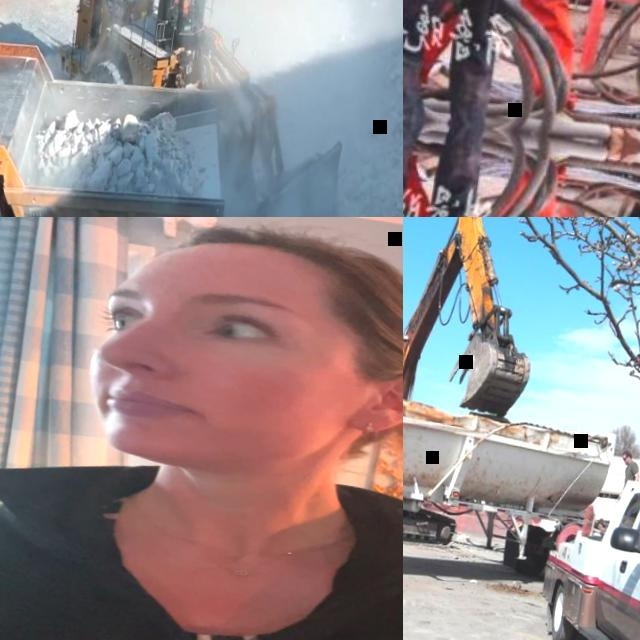NO-Hardhat: (138, 217, 403, 309), (622, 451, 631, 459)
NO-Mask: (80, 329, 403, 496), (623, 459, 628, 467)
NO-Safety Vest: (0, 479, 403, 640), (623, 461, 636, 485)
Person: (0, 217, 403, 640), (403, 0, 561, 217), (411, 0, 610, 115), (618, 451, 640, 488)
machinery: (23, 0, 375, 217), (403, 339, 640, 640), (403, 217, 553, 559), (0, 26, 249, 217)
